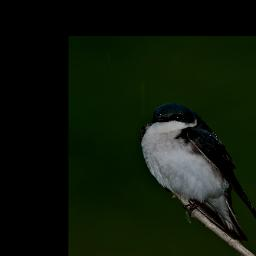Swallow: (137, 99, 256, 243)
